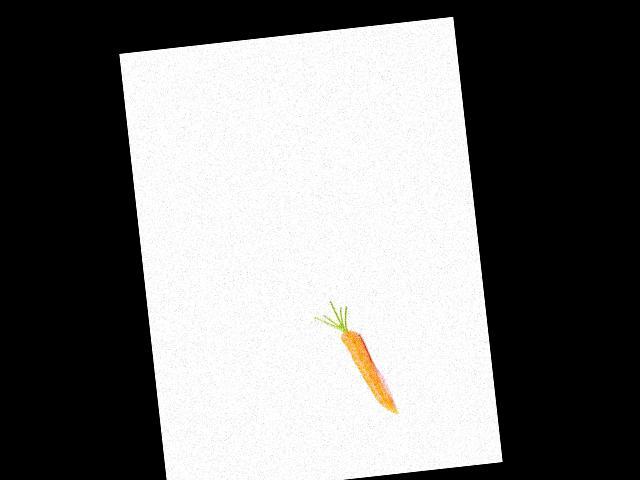carrot: (338, 322, 401, 419)
